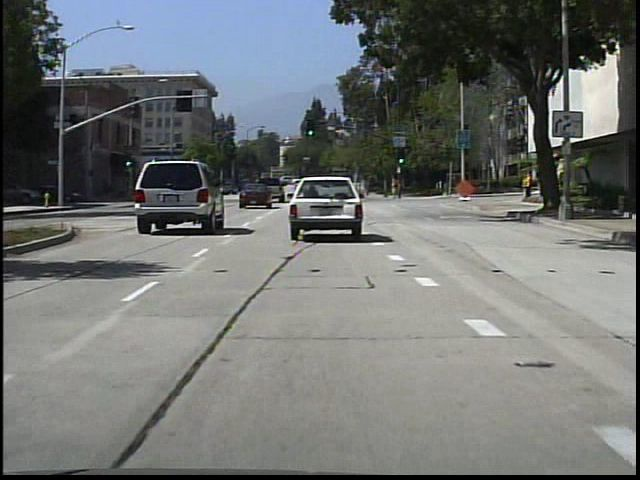person: (391, 173, 406, 202)
